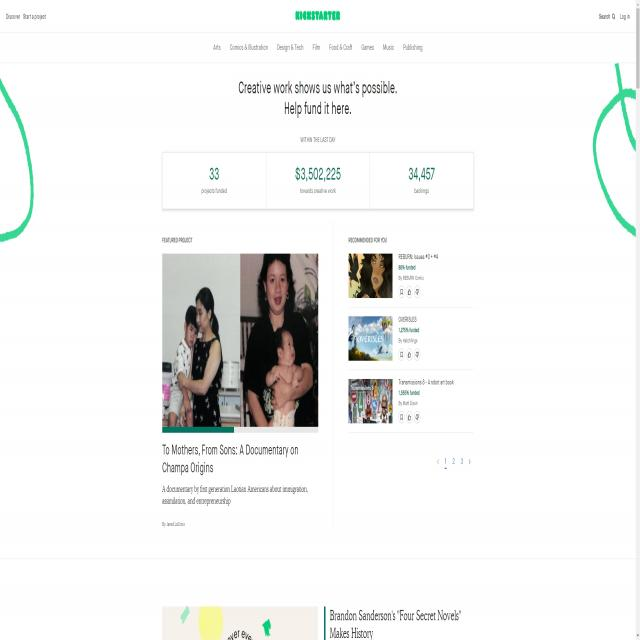menu-bar: (596, 5, 632, 26)
tab-bar: (210, 38, 427, 60)
